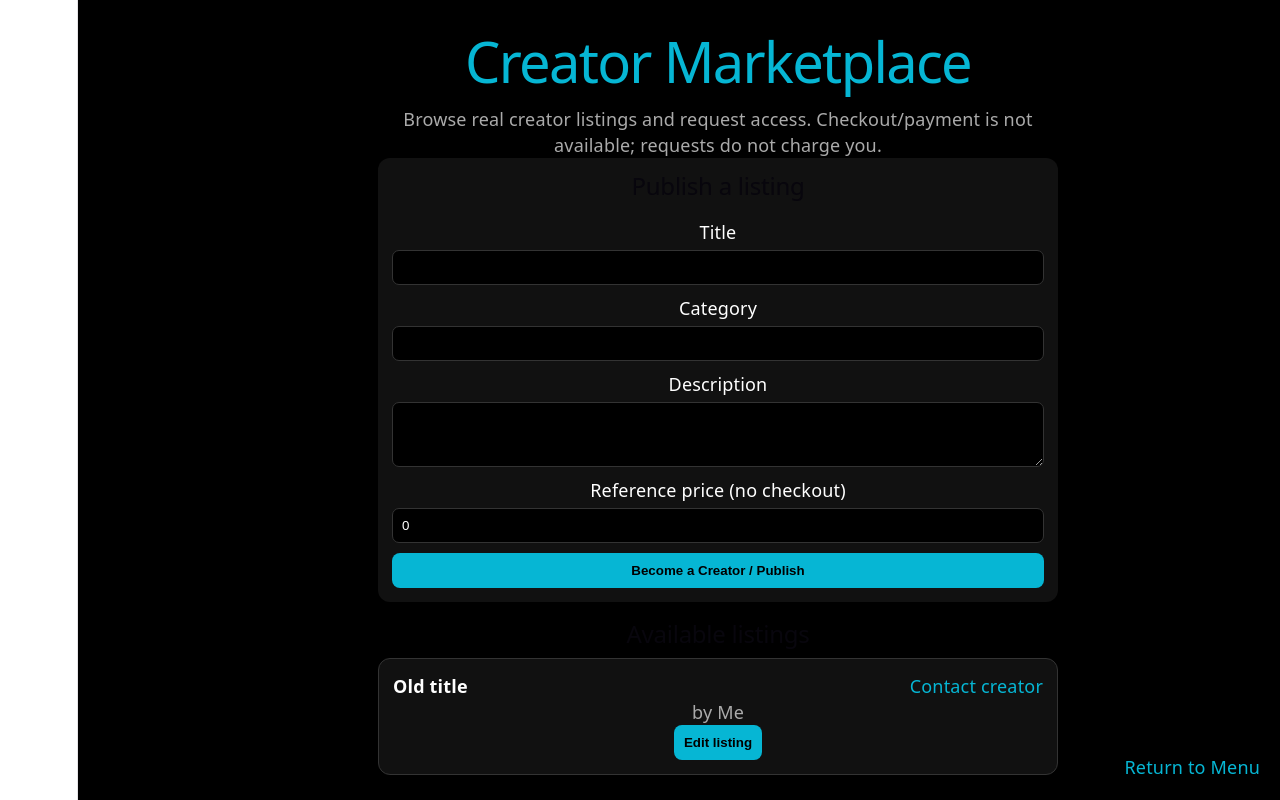
Scenario: Marketplace listing edits › lets the listing owner edit their persisted listing
The image size is (1280, 800).
Click the button "Edit listing" at (718, 743), box 674,726 -> 762,760
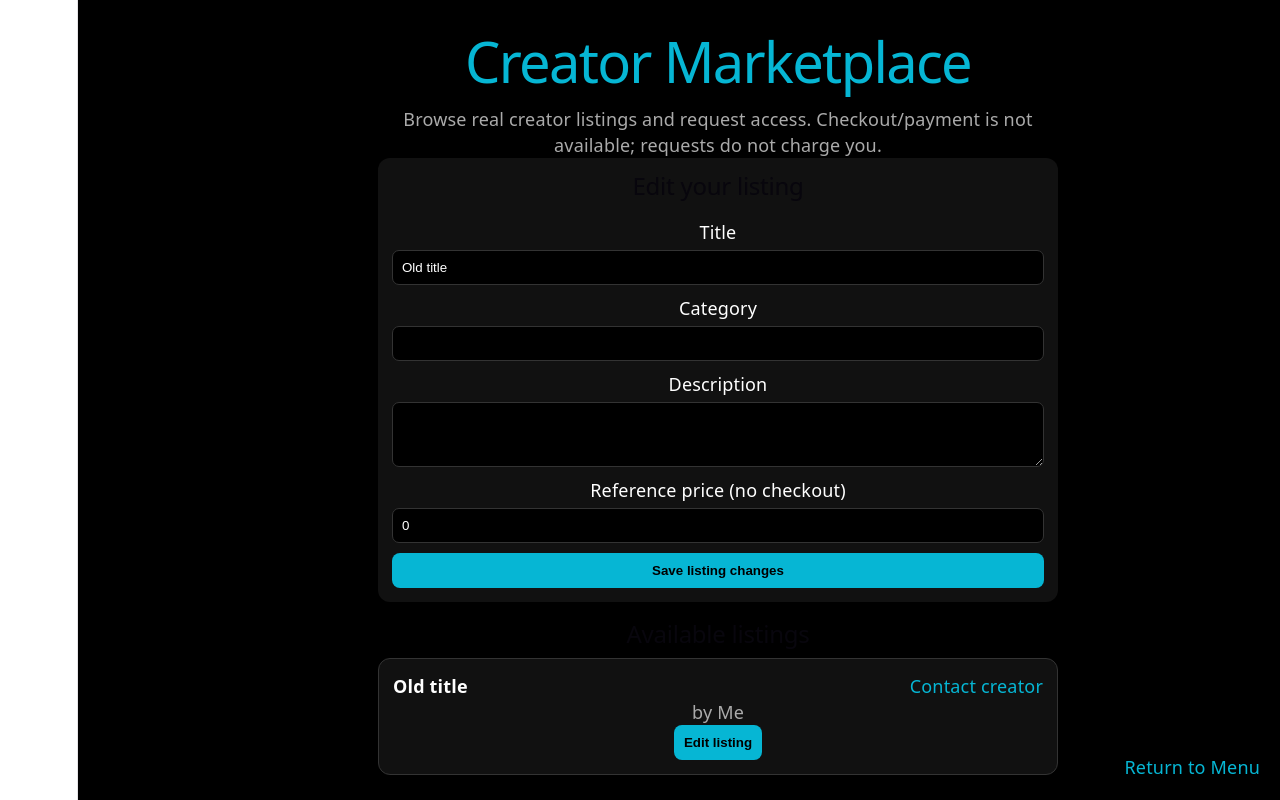
Replace the text in the field labelled "Title" with "New title" at (718, 267), box 392,250 -> 1044,285
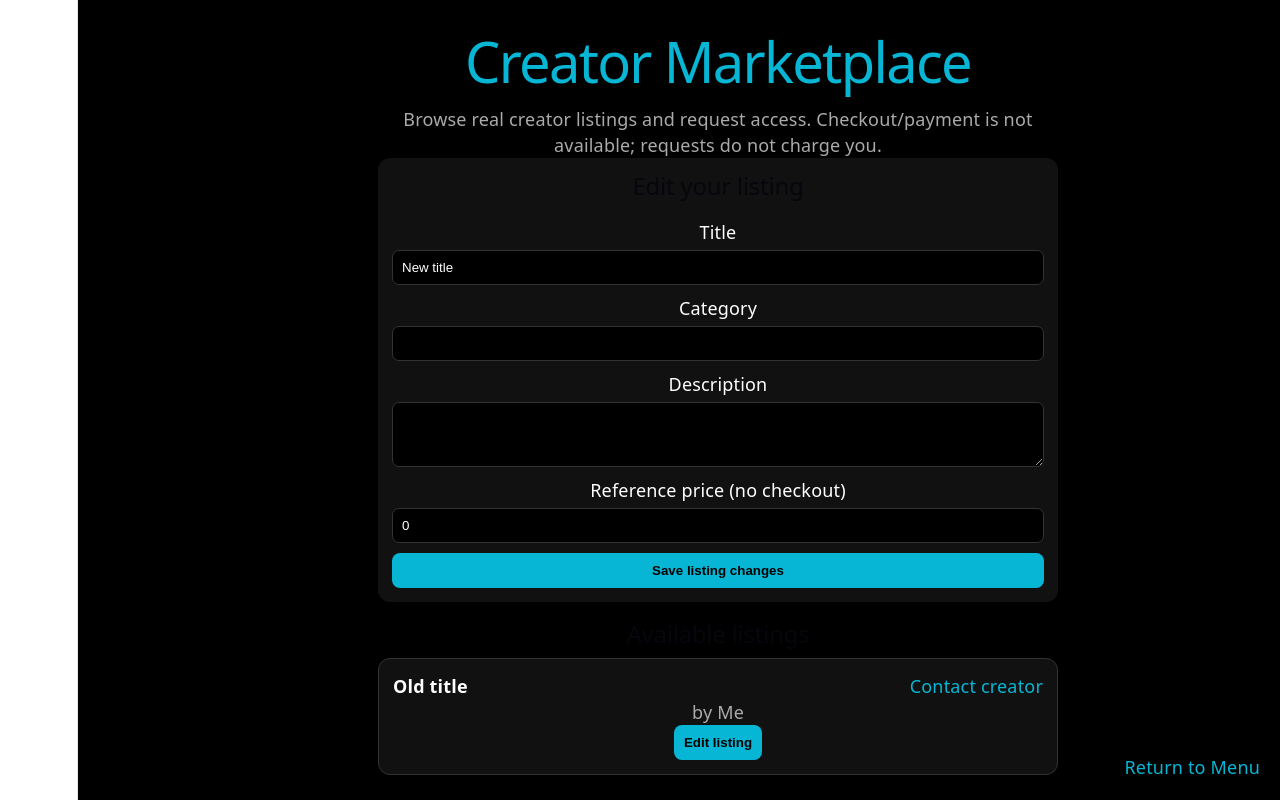
Click the button "Save listing changes" at (718, 570), box 392,553 -> 1044,588
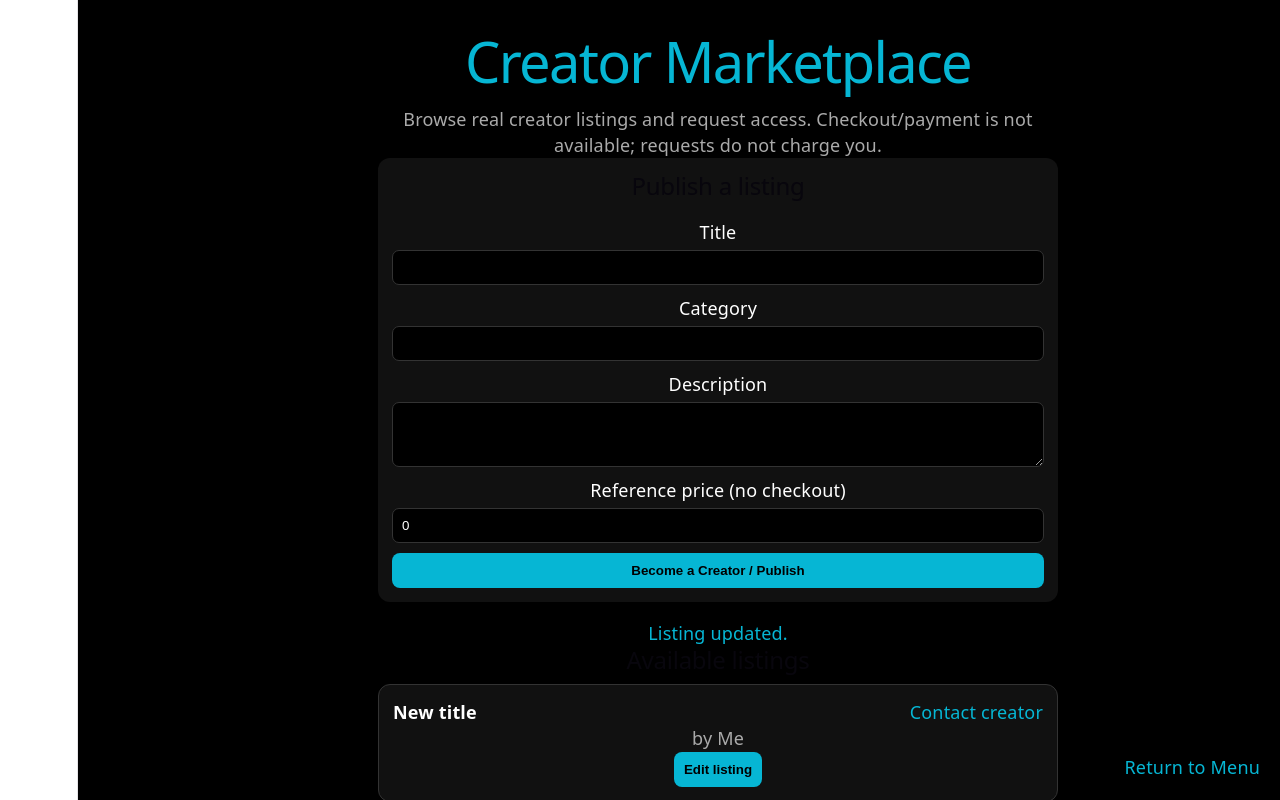
Result: the text "New title" is shown at 393,699 -> 477,726
